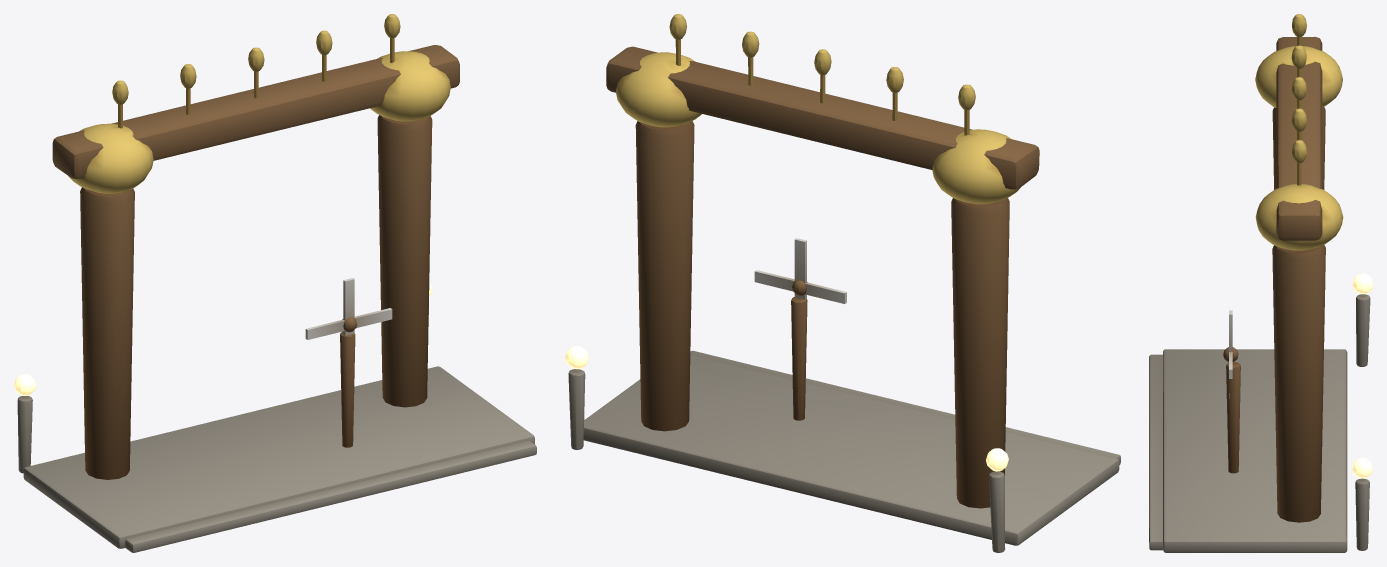
3 renders of one model, left to right at view 1: azimuth 30°, elevation 25°; view 2: azimuth 150°, elevation 25°; view 3: azimuth 270°, elevation 25°, orthographic. The views are drawn at different scales.
Visible parts, largest first — view 1: gate_29dbb709; view 2: gate_29dbb709; view 3: gate_29dbb709.
Part boxes in pixels (box(x1,y1,x2,y2)): gate_29dbb709: box(14, 14, 536, 552); gate_29dbb709: box(565, 14, 1120, 552); gate_29dbb709: box(1149, 14, 1372, 552).
Size of the model in its own units: 5.22 by 4.78 by 2.55.
